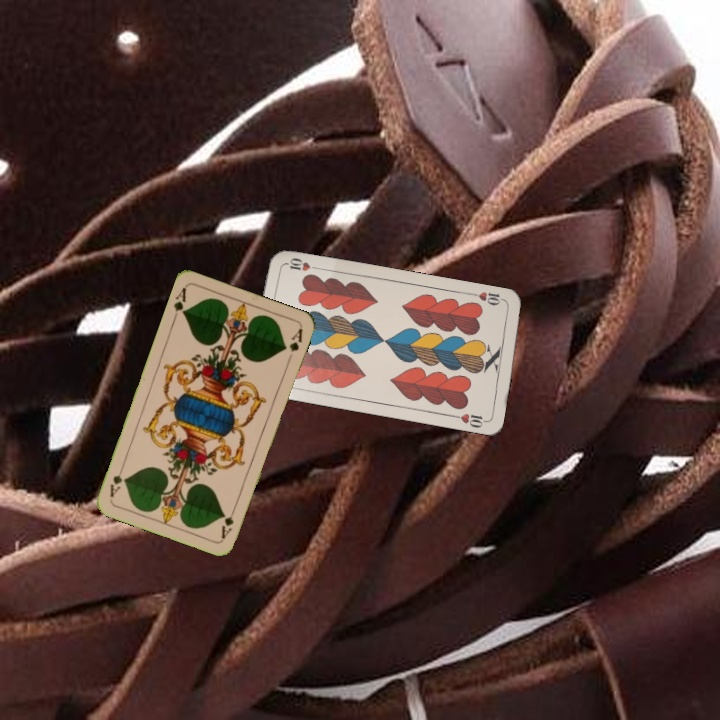GA: (217, 502, 239, 541), (169, 283, 189, 323)
H10: (468, 288, 509, 308)
